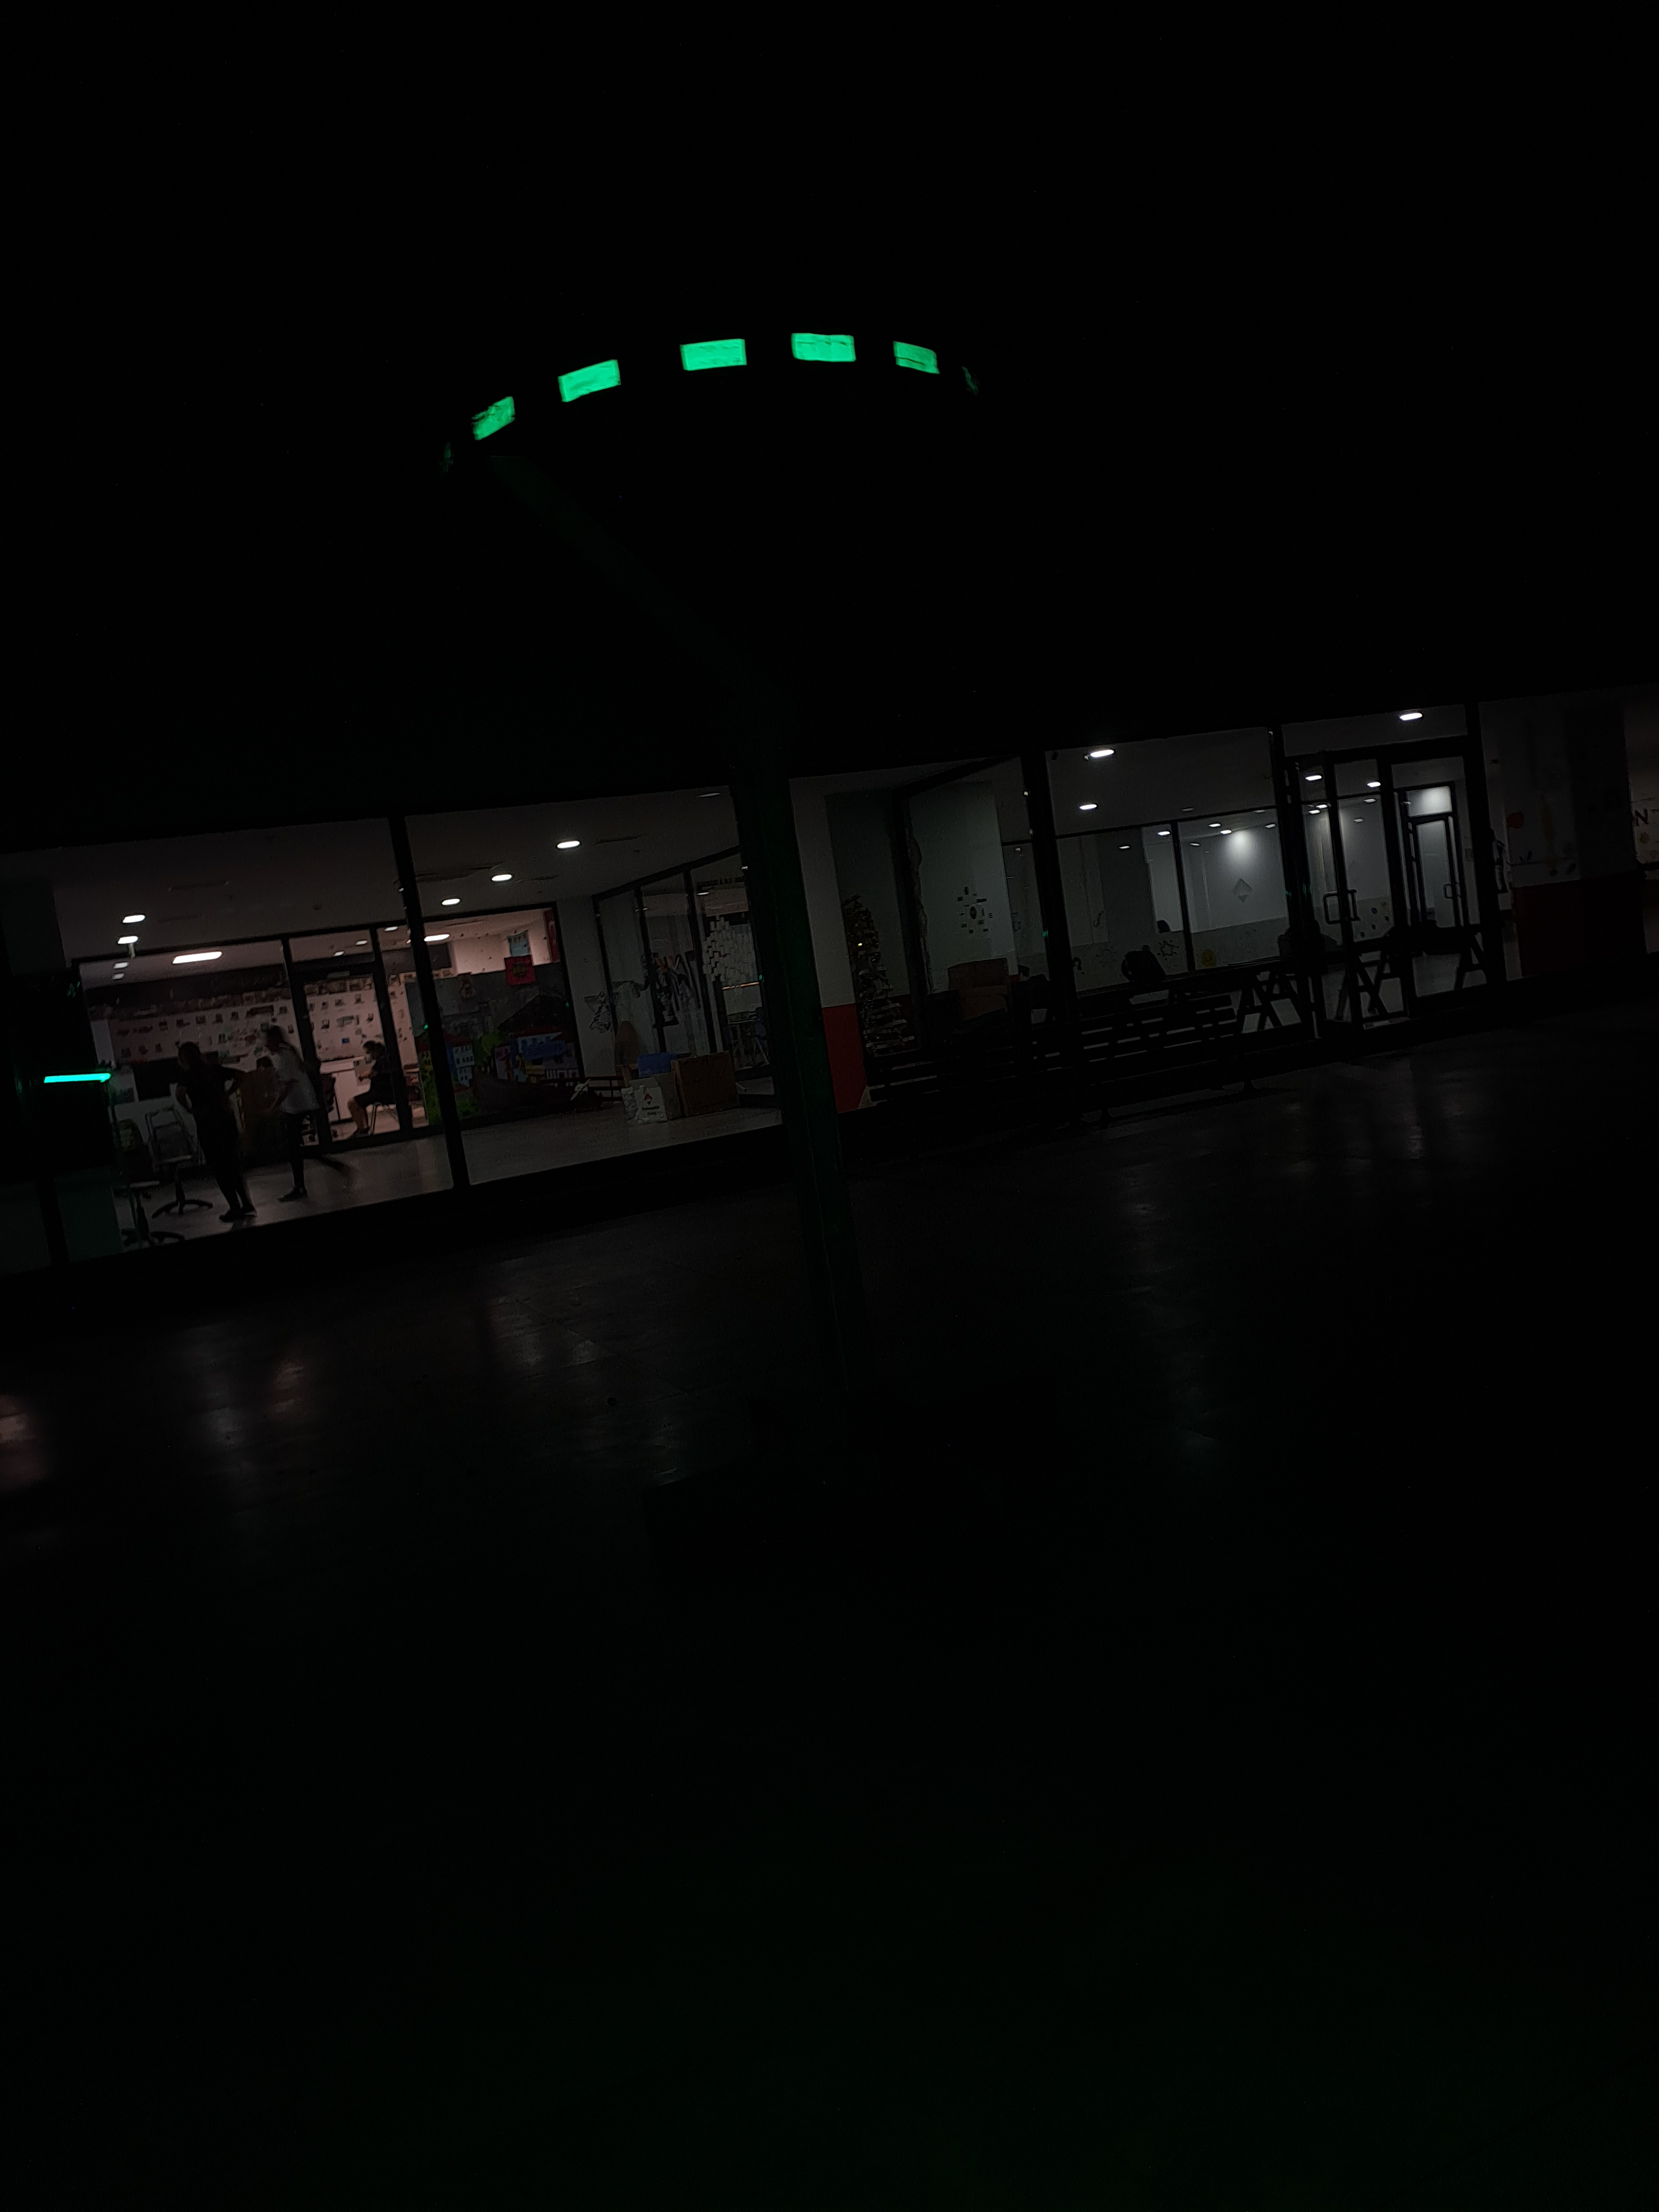hoop: (467, 327, 946, 448)
